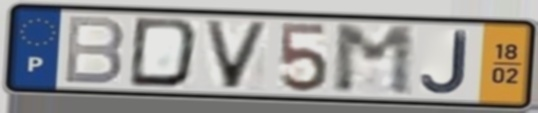5: (276, 20, 332, 95)
B: (60, 14, 128, 88)
D: (124, 15, 202, 91)
J: (419, 29, 471, 97)
M: (331, 23, 417, 98)
V: (200, 18, 274, 92)
